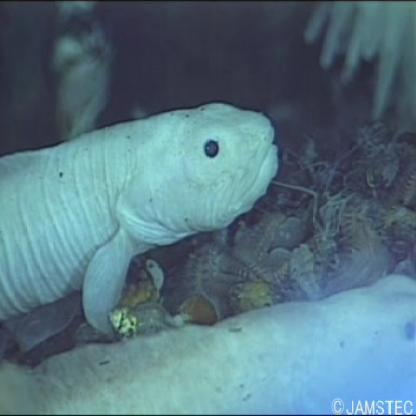Bio: (1, 95, 286, 344)
